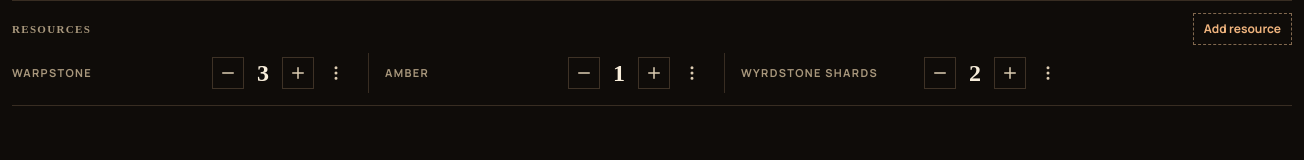
Test: WarbandResources › offers only Sell on the default resource
The image size is (1304, 160).
Click the button named "Warpstone actions" at {"x": 336, "y": 73}, box x1=320 y1=57 x2=352 y2=89
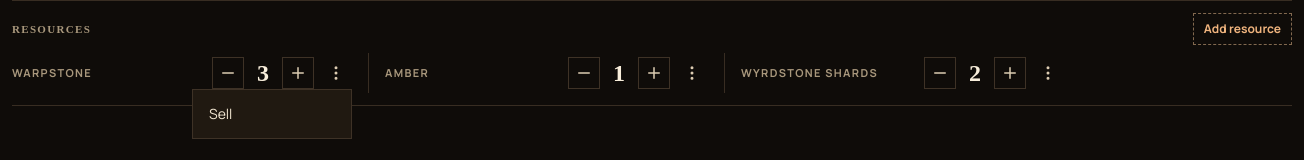
Check: the menu items read "Sell", in this order, box x1=209 y1=104 x2=232 y2=123
